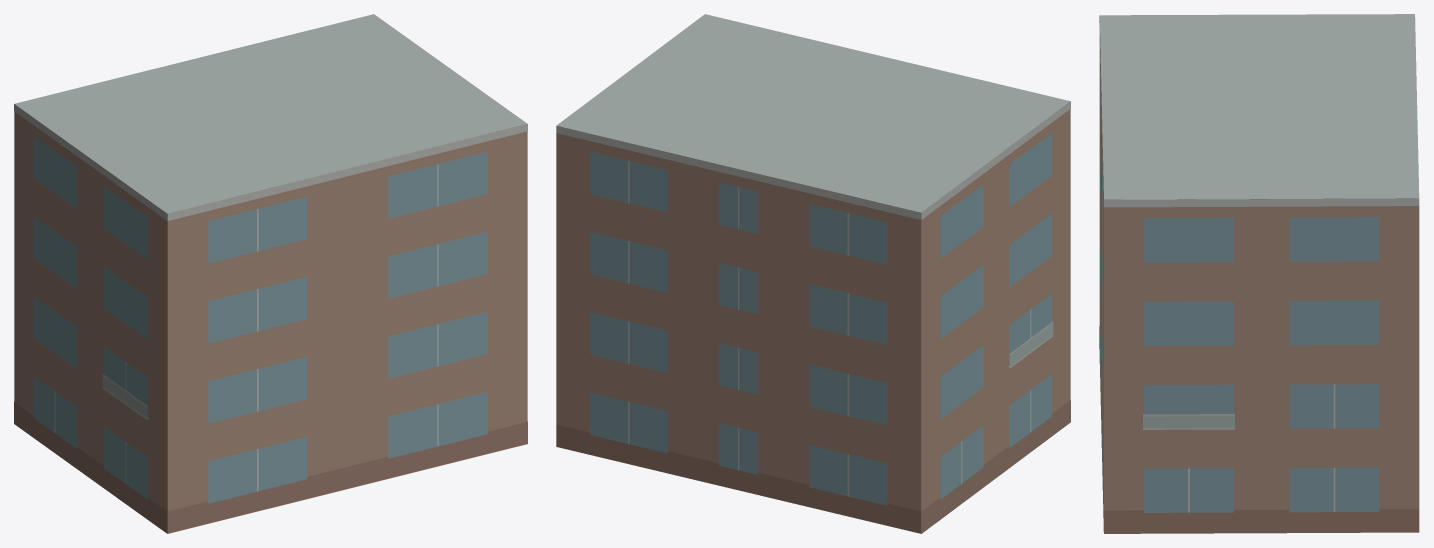
The model's file is survey-upis-32579456.glb.
3 renders of one model, left to right at view 1: azimuth 30°, elevation 25°; view 2: azimuth 150°, elevation 25°; view 3: azimuth 270°, elevation 25°, orthographic. The views are drawn at different scales.
Visible parts, largest first — view 1: survey-upis-32579456.tmp; view 2: survey-upis-32579456.tmp; view 3: survey-upis-32579456.tmp.
Part boxes in pixels (bbox=[...]): survey-upis-32579456.tmp: bbox=[14, 14, 527, 533]; survey-upis-32579456.tmp: bbox=[556, 14, 1070, 533]; survey-upis-32579456.tmp: bbox=[1099, 14, 1419, 533].
Size of the model in its own units: 12.67 by 10.6 by 9.2.
